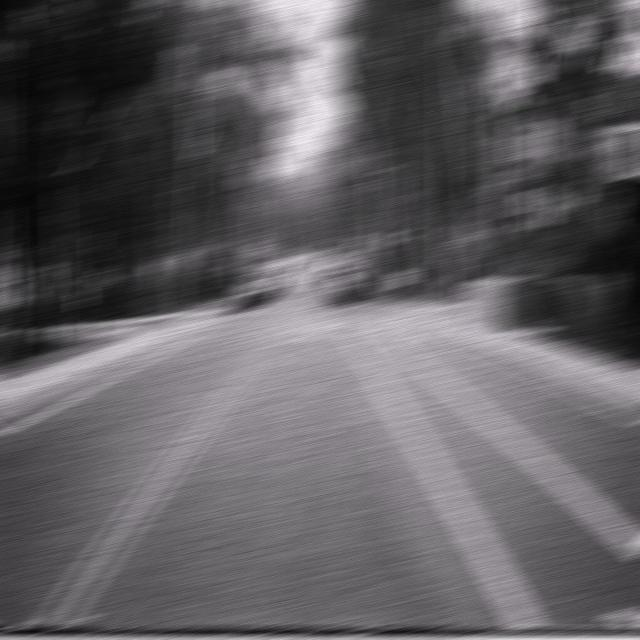stop: (457, 222, 482, 252)
